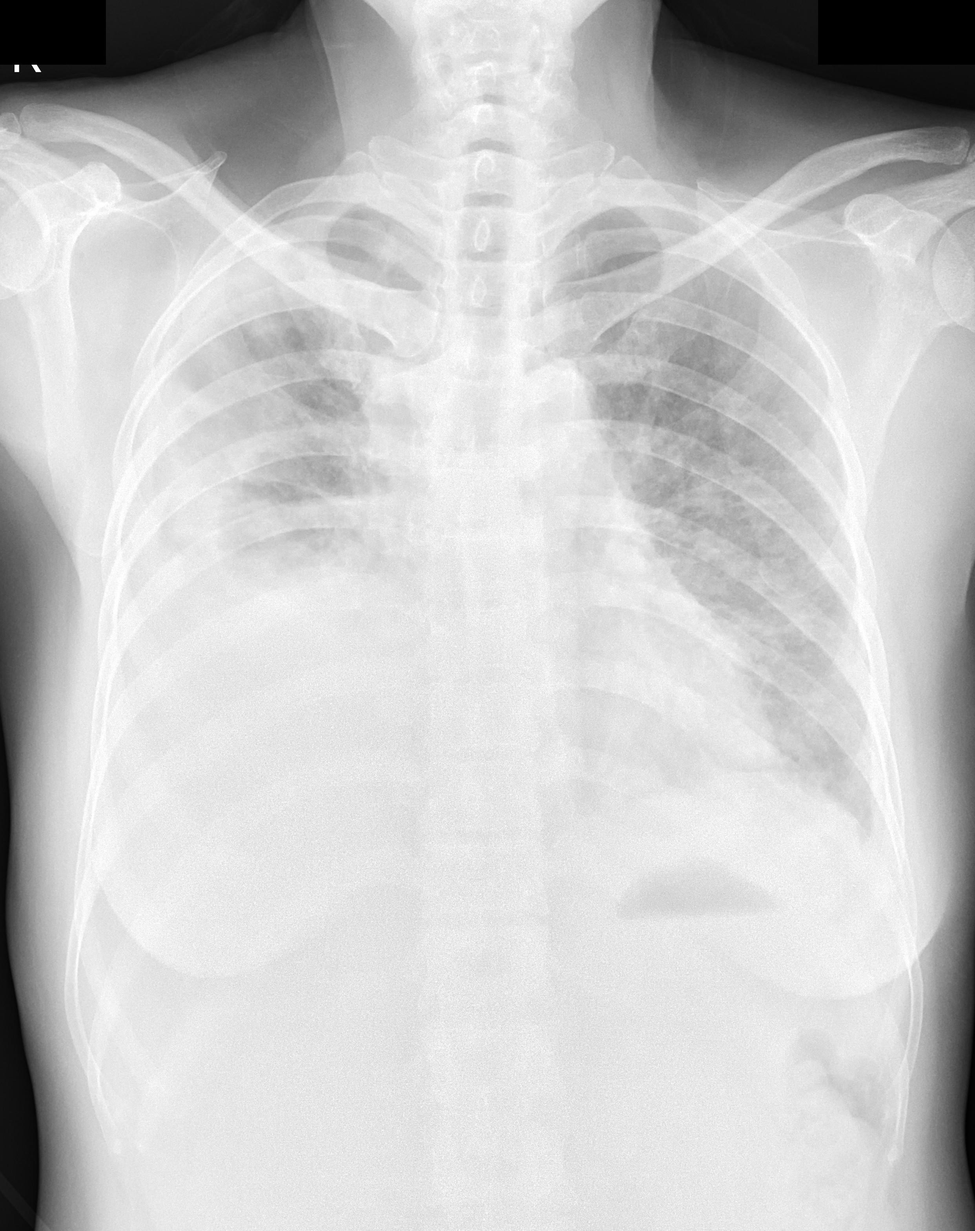Pulmonary fibrosis: (125, 222, 399, 575), (639, 333, 849, 785)
